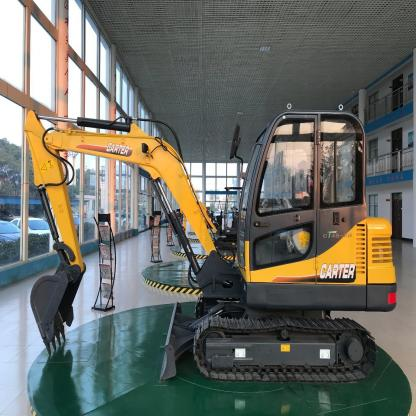excavator: (14, 72, 390, 379)
